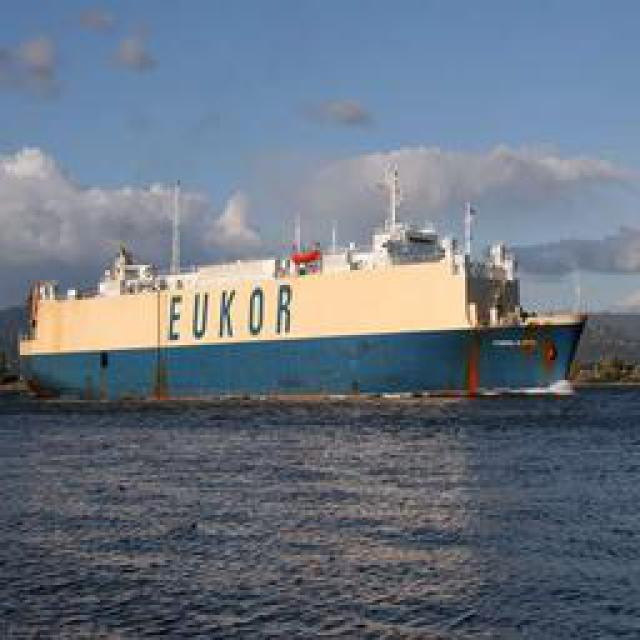Ship: (23, 194, 598, 407)
